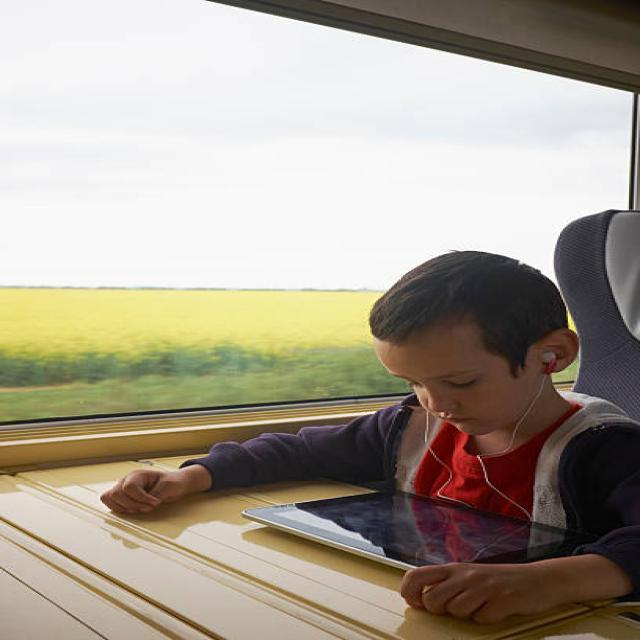Earphone: (424, 349, 559, 521)
